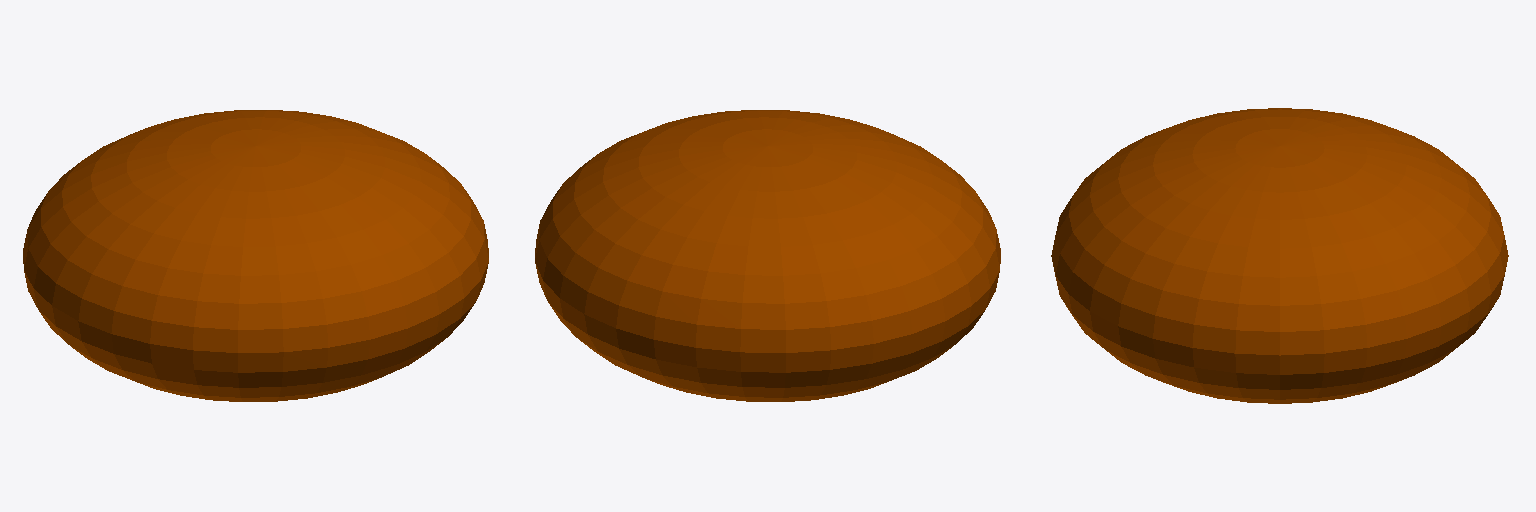
The model's file is moya_microwave_o.obj.
3 renders of one model, left to right at view 1: azimuth 30°, elevation 25°; view 2: azimuth 150°, elevation 25°; view 3: azimuth 270°, elevation 25°, orthographic.
Parts seen in each view (by area): view 1: Sphere_Sphere.005_Sphere_Sphere.009; view 2: Sphere_Sphere.005_Sphere_Sphere.009; view 3: Sphere_Sphere.005_Sphere_Sphere.009.
Part boxes in pixels (left/top/right/bottom): Sphere_Sphere.005_Sphere_Sphere.009: left=23, top=110, right=488, bottom=401; Sphere_Sphere.005_Sphere_Sphere.009: left=535, top=110, right=1000, bottom=401; Sphere_Sphere.005_Sphere_Sphere.009: left=1051, top=108, right=1508, bottom=403.
Size of the model in its own units: 0.4594 by 0.2363 by 0.4463.